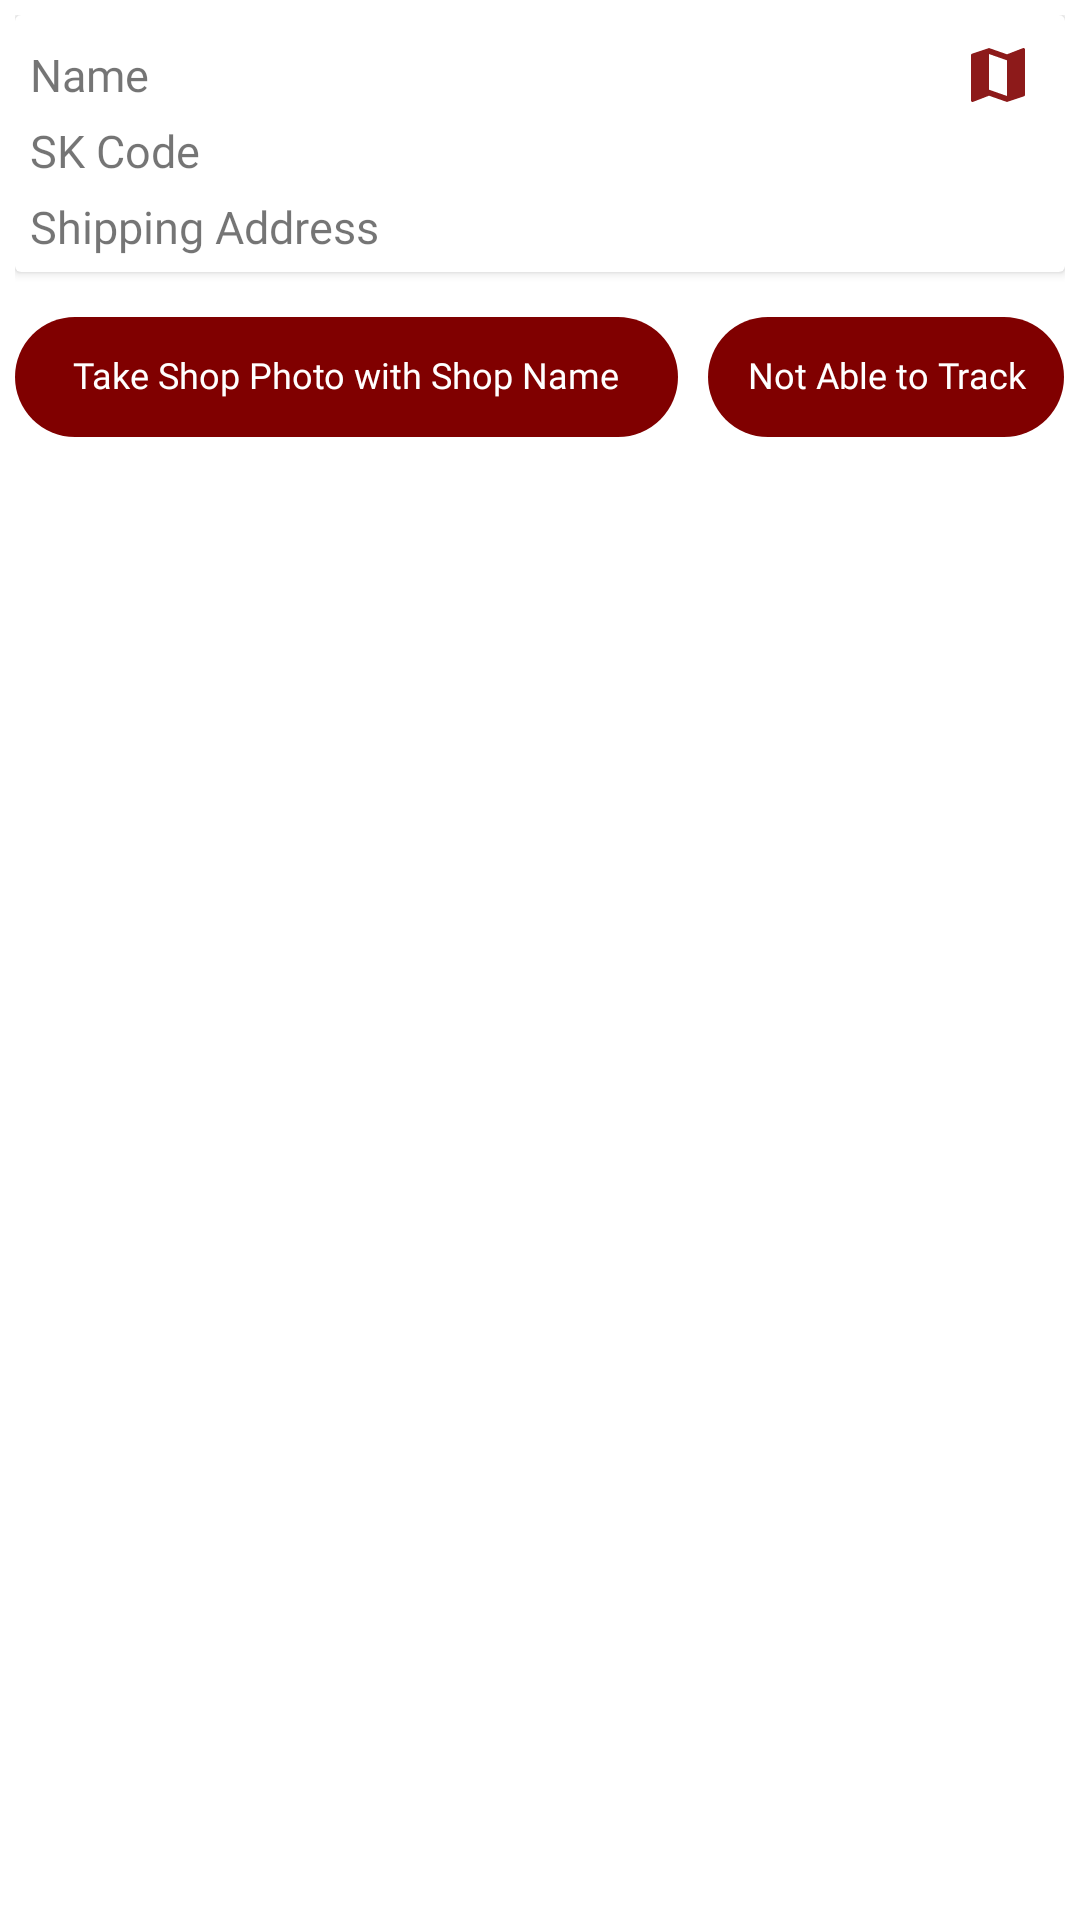

Where icons sit on this 1080px×1920px app screen, as [x1, y1, x2, y2]:
map: [971, 48, 1025, 102]
